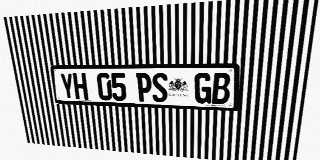0: (96, 73, 112, 101)
5: (111, 73, 127, 101)
B: (212, 73, 231, 104)
G: (194, 73, 212, 104)
H: (72, 73, 88, 100)
P: (136, 73, 152, 102)
S: (151, 73, 168, 102)
Y: (59, 73, 75, 99)
